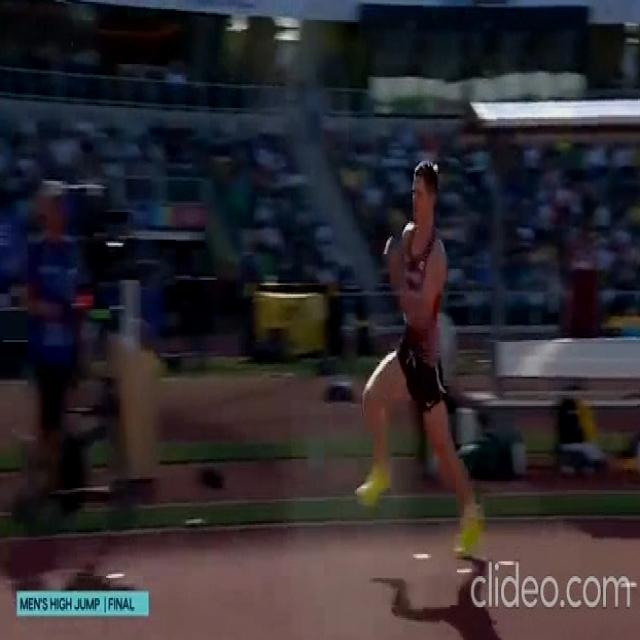run: (356, 156, 481, 552)
